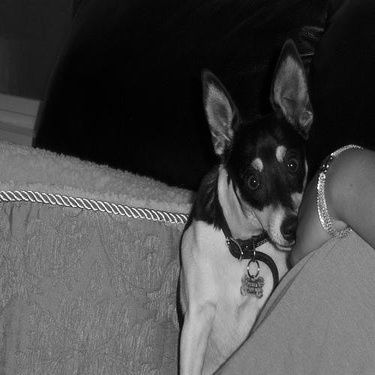dog: (156, 32, 337, 371)
